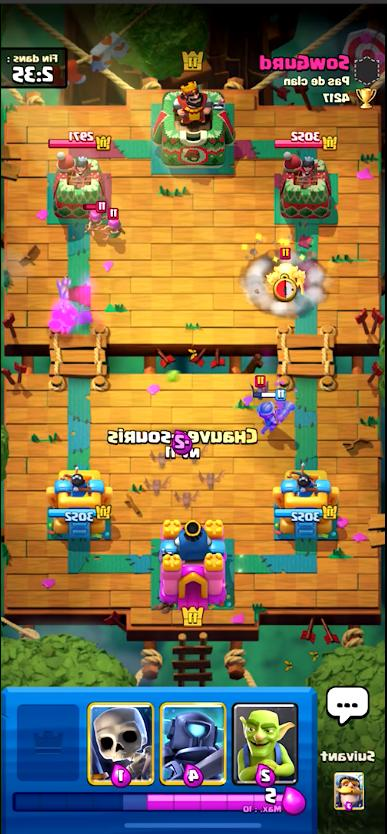archere: (84, 204, 106, 230), (105, 210, 123, 238)
bat: (252, 377, 269, 397)
mini_PEKKA: (267, 248, 301, 281)
mousquetaire: (258, 388, 291, 433)
